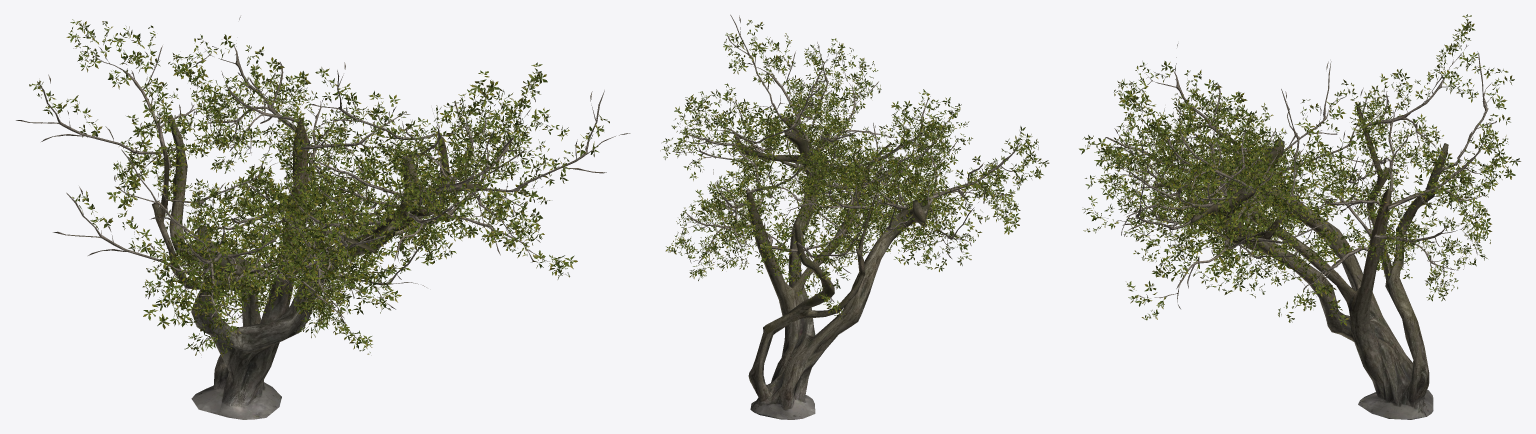
File: IslandTree_02.glb
The picture shows the model from 3 angles, left to right: view 1: azimuth 30°, elevation 25°; view 2: azimuth 150°, elevation 25°; view 3: azimuth 270°, elevation 25°; orthographic projection. The views are drawn at different scales.
Visible parts, largest first — view 1: island_tree_02_LOD0; view 2: island_tree_02_LOD0; view 3: island_tree_02_LOD0.
Boxes of the visible parts, x1,y1,x2,y2 form: island_tree_02_LOD0: (16,16,630,419); island_tree_02_LOD0: (660,14,1049,419); island_tree_02_LOD0: (1079,14,1520,419).
Bounding box in the file's own units: 4.21 × 3.4 × 4.07.
Materials: 3 (3 with a texture image).
